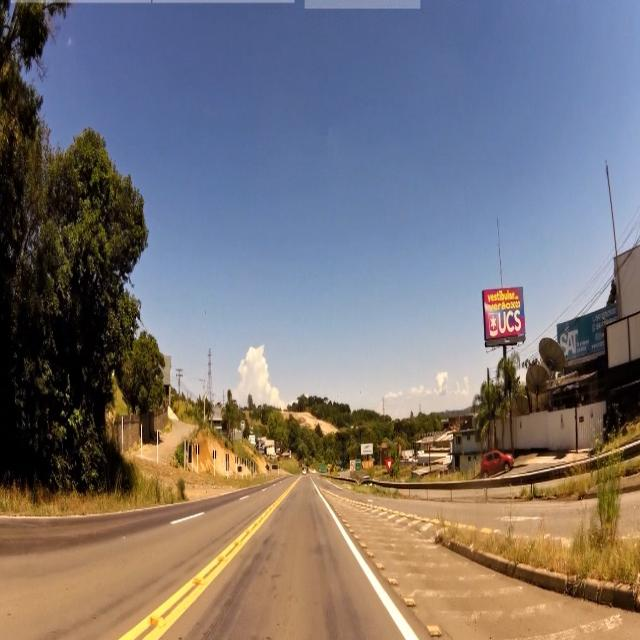R-2: (385, 456, 393, 472)
